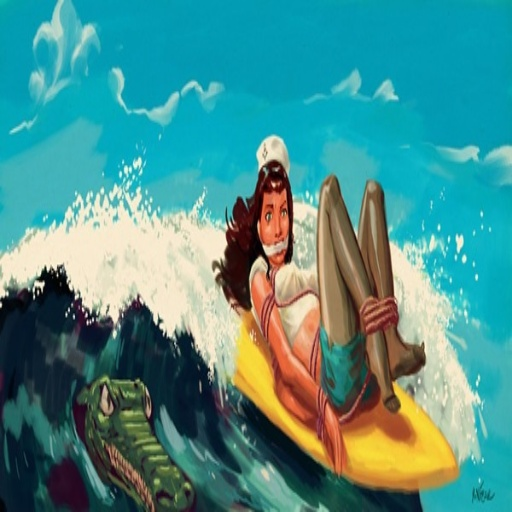hand: (322, 399, 341, 475)
